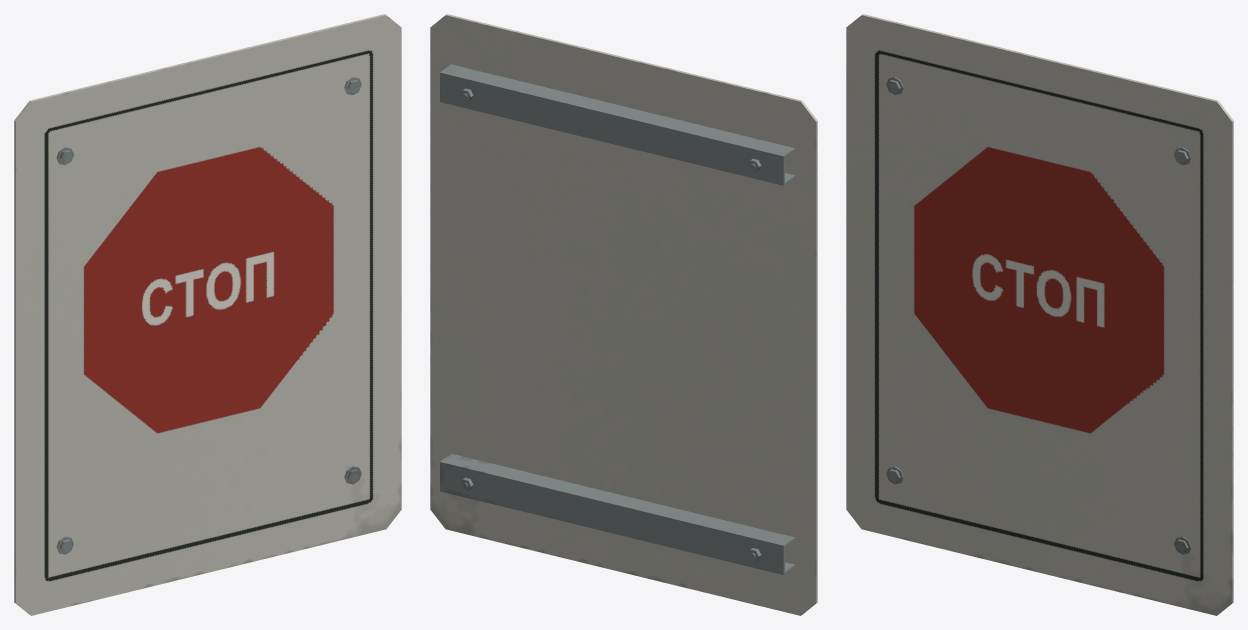
File: bunker_military_warning_sign_stop.glb
3 renders of one model, left to right at view 1: azimuth 30°, elevation 25°; view 2: azimuth 150°, elevation 25°; view 3: azimuth 330°, elevation 25°, orthographic.
Visible parts, largest first — view 1: MilitaryWarningSign; view 2: MilitaryWarningSign; view 3: MilitaryWarningSign.
Boxes of the visible parts, <box> form: MilitaryWarningSign: <box>14,14,401,615</box>; MilitaryWarningSign: <box>430,14,817,615</box>; MilitaryWarningSign: <box>846,14,1233,615</box>.
Bounding box in the file's own units: 0.55 × 0.7 × 0.0458.
Materials: 1 (1 with a texture image).
